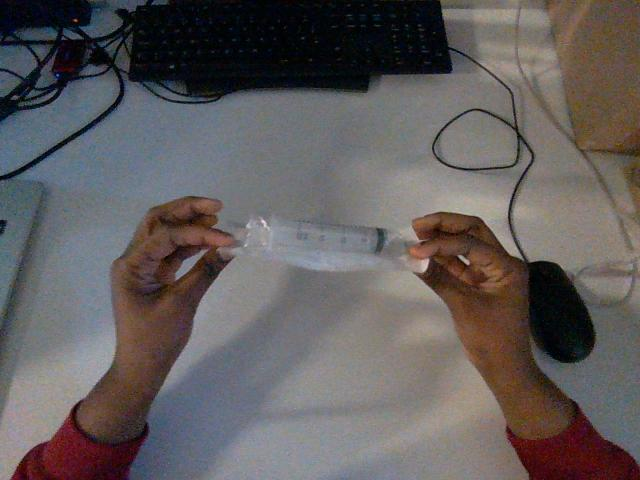syringe: (227, 216, 424, 271)
